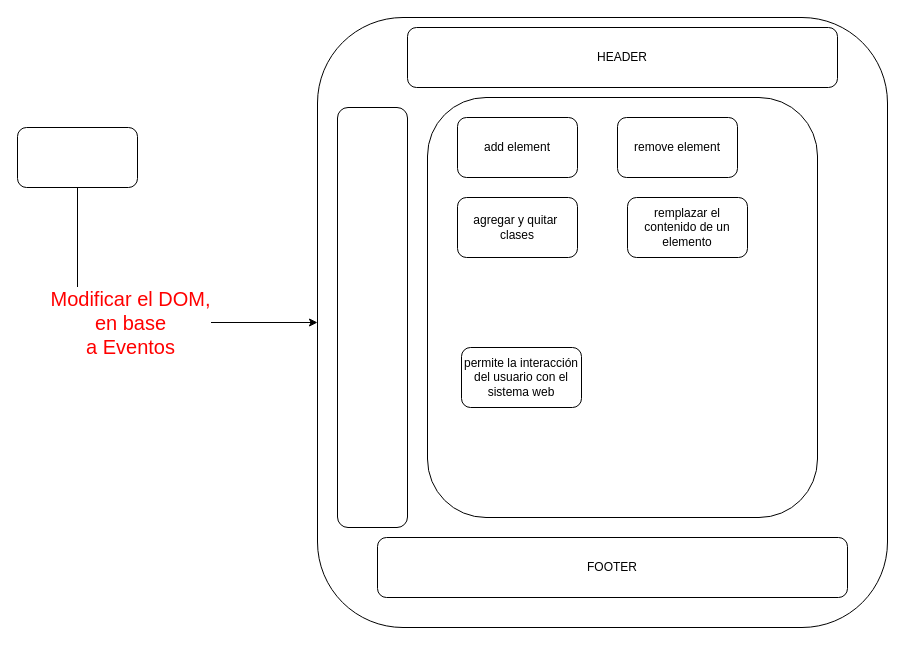
Some shapes in this 905 by 645 pixel diagram are drawn without their labels. Each missing label, with the box of its shape:
JAVA SCRIPT: (16, 126, 138, 188)
SIDEBAR: (336, 106, 408, 528)
WORK SPACE ESPACIO DE TRABAJO: (426, 96, 818, 518)
